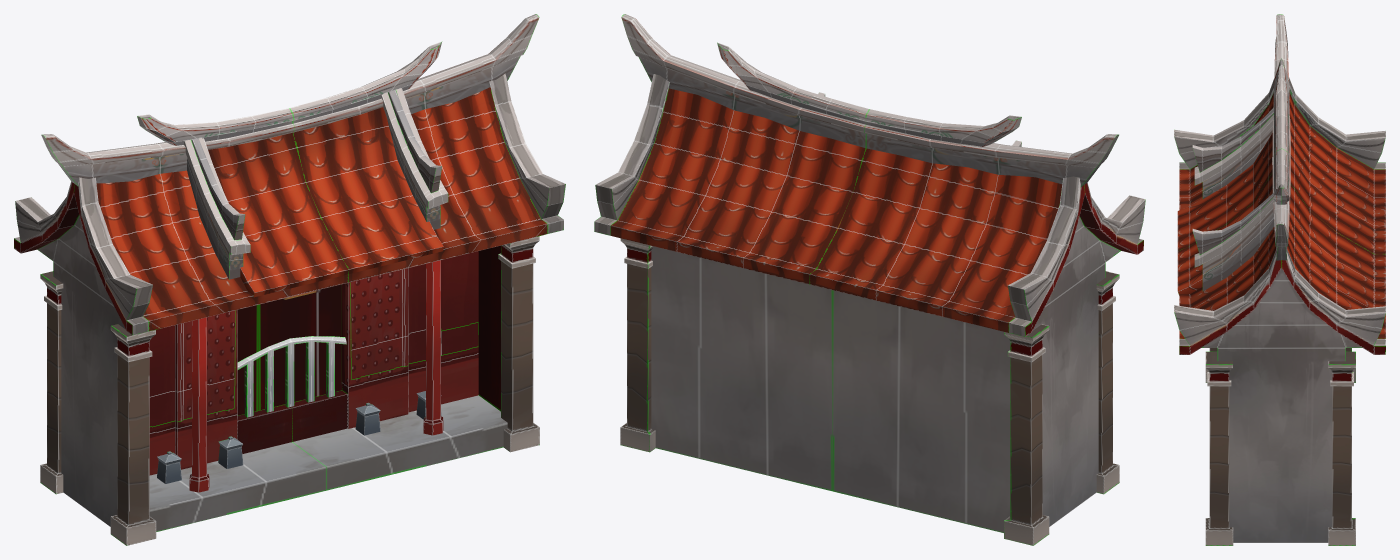
3 views of the same model, side by side, from view 1: azimuth 30°, elevation 25°; view 2: azimuth 150°, elevation 25°; view 3: azimuth 270°, elevation 25° (orthographic). The views are drawn at different scales.
Parts seen in each view (by area): view 1: Cube, Cube.005, Cube.009, Cube.002, Cube.001, Cube.004, Cube.003, Cylinder, Plane, Cube.011, Cube.012, Cube.014; view 2: Cube, Cube.001, Cube.011, Cube.003, Cube.002; view 3: Cube, Cube.004, Cube.009, Cube.002, Cube.011, Cube.003, Cube.001.
Part boxes in pixels (<box>): Cube: <box>14,73,565,531</box>; Cube.005: <box>149,251,478,475</box>; Cube.009: <box>208,107,443,297</box>; Cube.002: <box>110,236,539,545</box>; Cube.001: <box>41,14,539,186</box>; Cube.004: <box>184,88,448,279</box>; Cube.003: <box>137,41,442,145</box>; Cylinder: <box>189,260,443,492</box>; Plane: <box>237,336,346,417</box>; Cube.011: <box>40,271,63,494</box>; Cube.012: <box>218,402,380,468</box>; Cube.014: <box>157,451,181,483</box>; Cube: <box>594,74,1145,532</box>; Cube.001: <box>621,14,1118,187</box>; Cube.011: <box>620,238,1049,545</box>; Cube.003: <box>717,42,1021,146</box>; Cube.002: <box>1096,271,1119,494</box>; Cube: <box>1174,77,1385,542</box>; Cube.004: <box>1192,107,1275,291</box>; Cube.009: <box>1177,132,1272,295</box>; Cube.002: <box>1205,348,1233,545</box>; Cube.011: <box>1328,348,1355,545</box>; Cube.003: <box>1273,58,1289,204</box>; Cube.001: <box>1272,14,1290,260</box>.
Size of the model in its own units: 725 by 546 by 309.
Materials: 1 (1 with a texture image).
